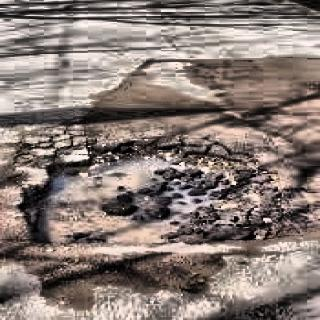pothole: (18, 137, 288, 246)
